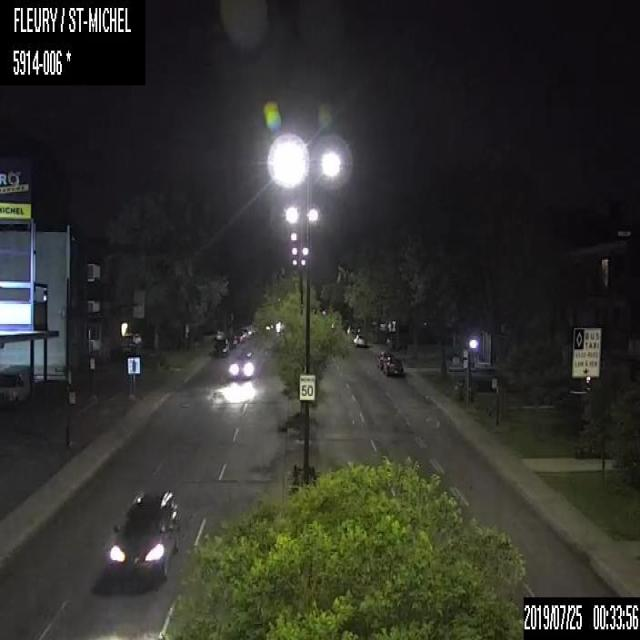vehicle: (105, 486, 182, 586), (0, 361, 31, 403), (227, 357, 256, 380), (381, 356, 404, 377), (376, 349, 393, 370), (212, 336, 227, 356), (352, 332, 366, 346)
